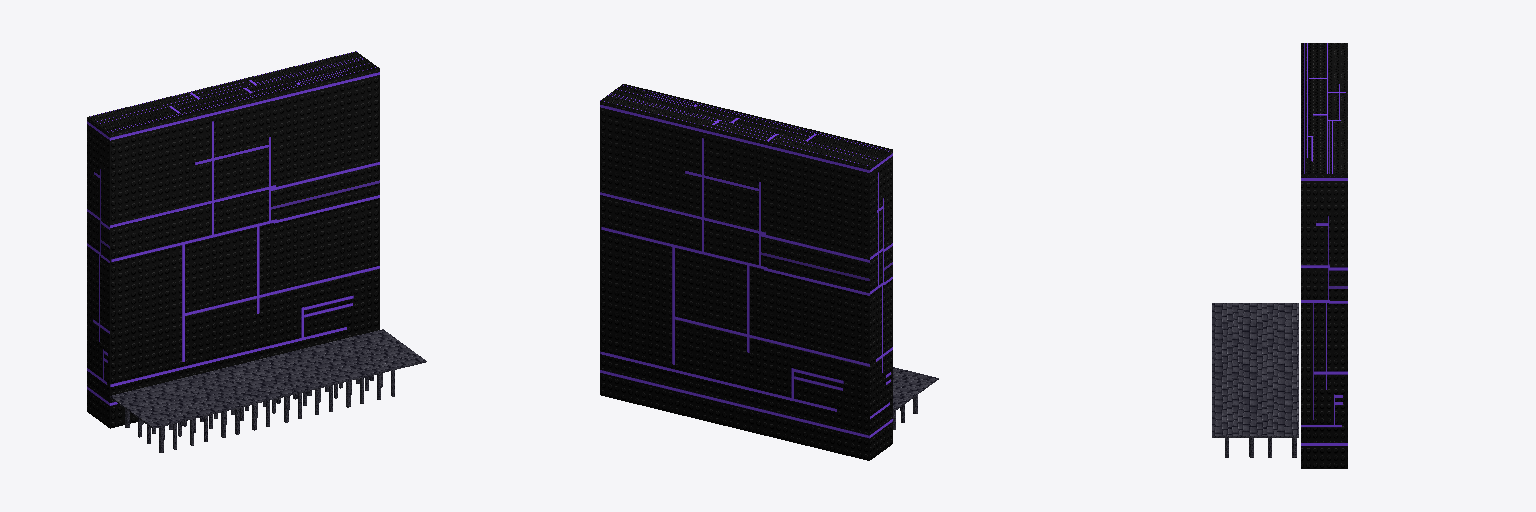
The picture shows the model from 3 angles: view 1: azimuth 30°, elevation 25°; view 2: azimuth 150°, elevation 25°; view 3: azimuth 270°, elevation 25°; orthographic projection.
Parts seen in each view (by area): view 1: Box008, Box007; view 2: Box008, Box007; view 3: Box008, Box007.
Part boxes in pixels (bbox=[...]): Box008: bbox=[87, 51, 379, 428]; Box007: bbox=[110, 329, 426, 428]; Box008: bbox=[600, 84, 892, 460]; Box007: bbox=[893, 367, 938, 410]; Box008: bbox=[1301, 43, 1347, 468]; Box007: bbox=[1212, 303, 1298, 437].
Size of the model in its own units: 2.93 by 3.02 by 1.26.
Materials: 2 (2 with a texture image).